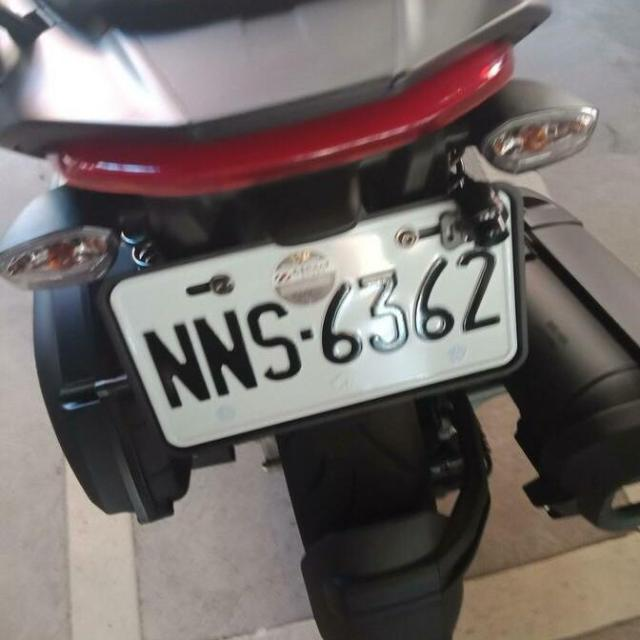W: (94, 173, 541, 463)
